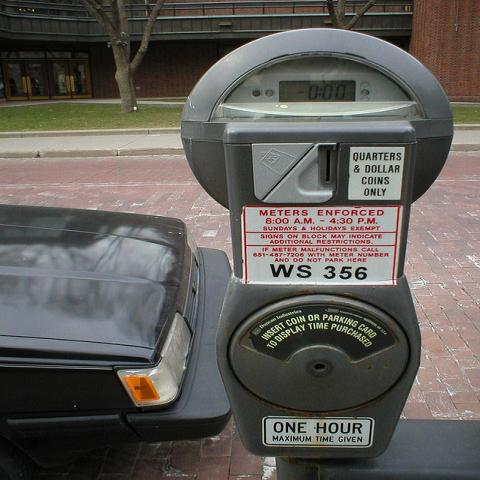car: (1, 187, 226, 467)
